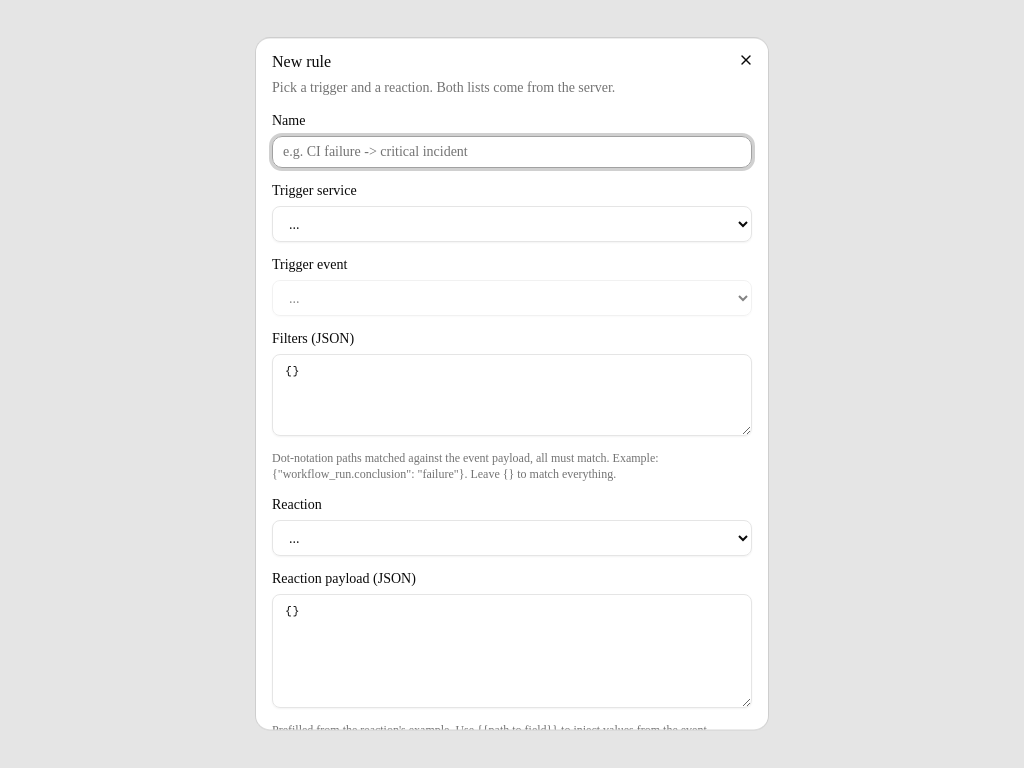
Test: RuleFormDialog › shows API error on save failure
Check: the dialog is shown, box [256,38,768,730]
Type "My Rule" into the field labelled "Name".
click(512, 152); type("My Rule")  # box [272,136,752,168]
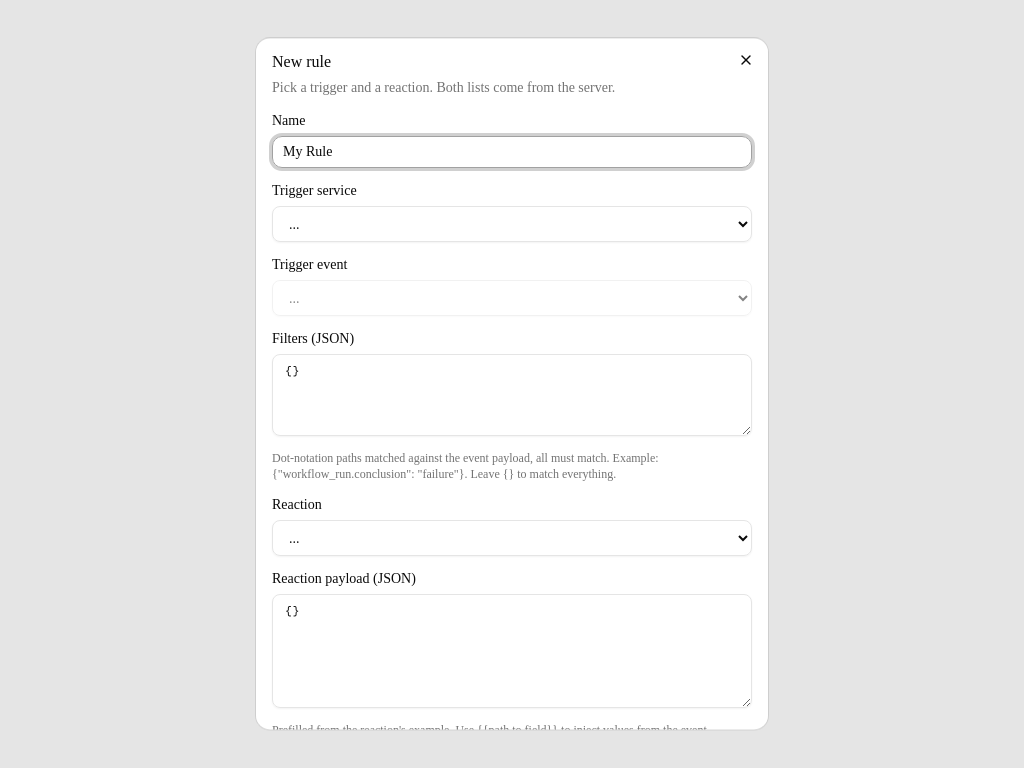
Select "github" in the dropdown labelled "Trigger service" at (512, 224), box [272,206,752,242]
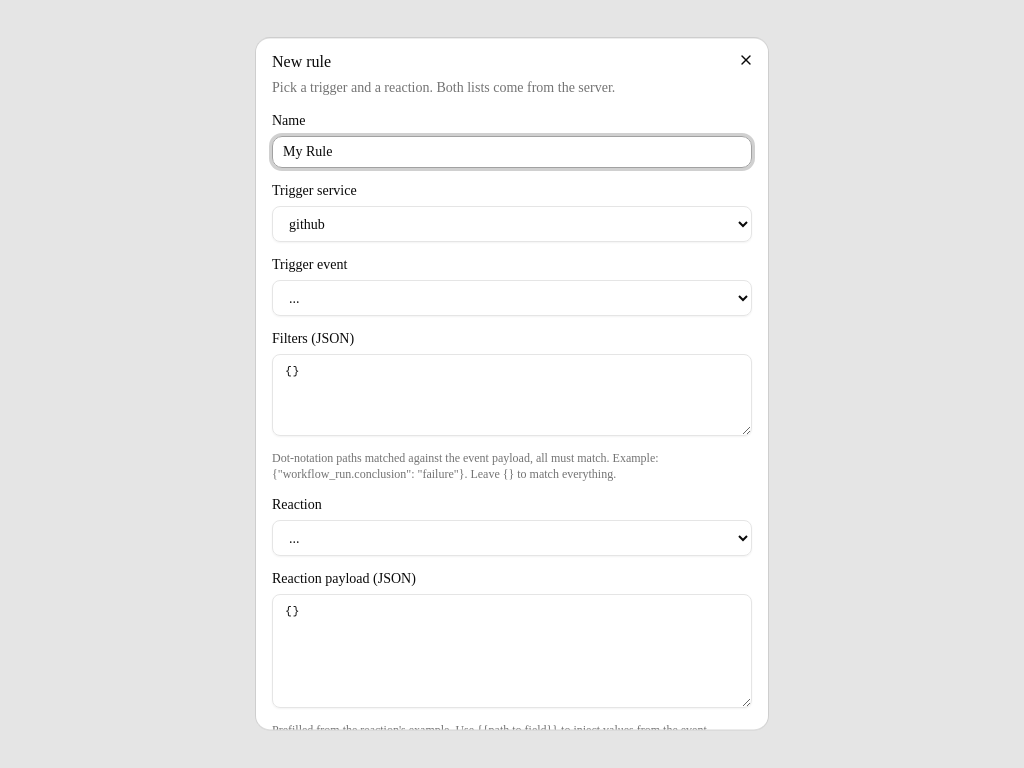
Select "workflow_run" in the dropdown labelled "Trigger event" at (512, 298), box [272,280,752,316]
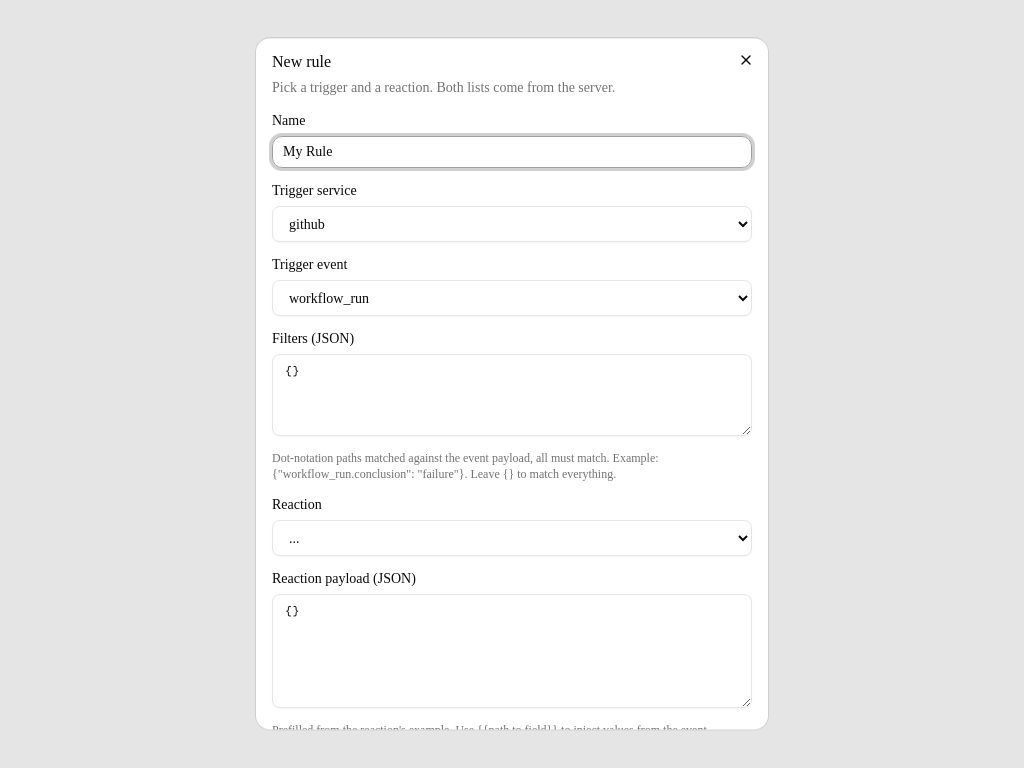
Select "vigil vigil_create_incident" in the dropdown labelled "Reaction" at (512, 538), box [272,520,752,556]
(page scrolled)
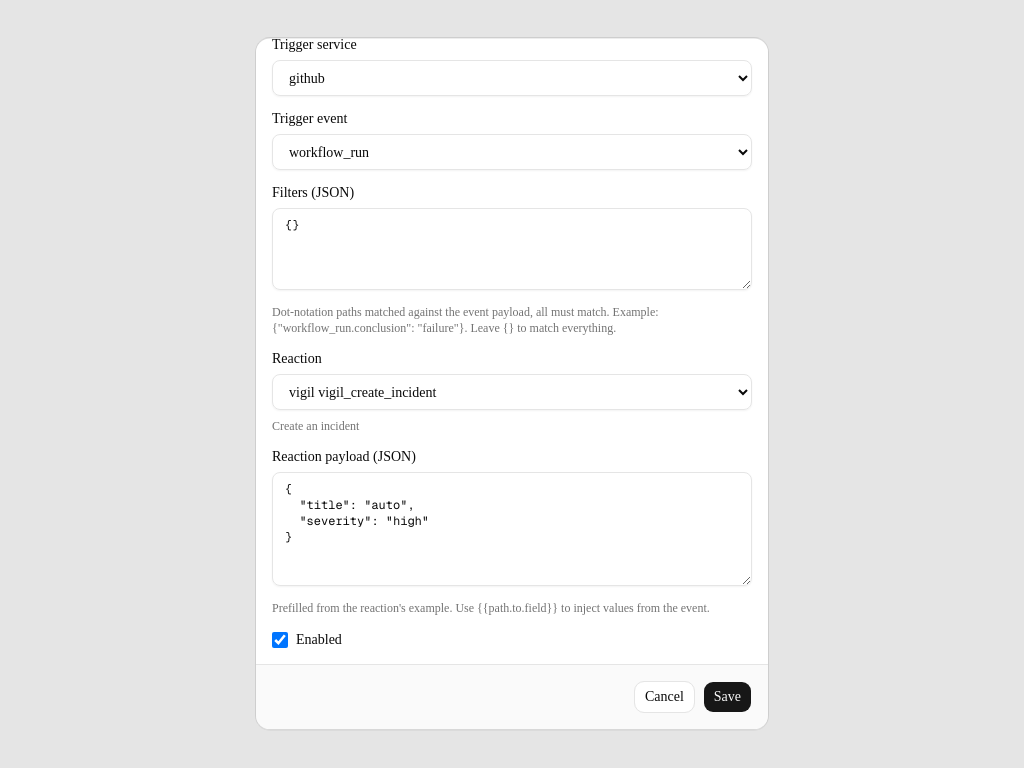
Click the button "Save".
click(727, 697)  # box [703,681,752,713]
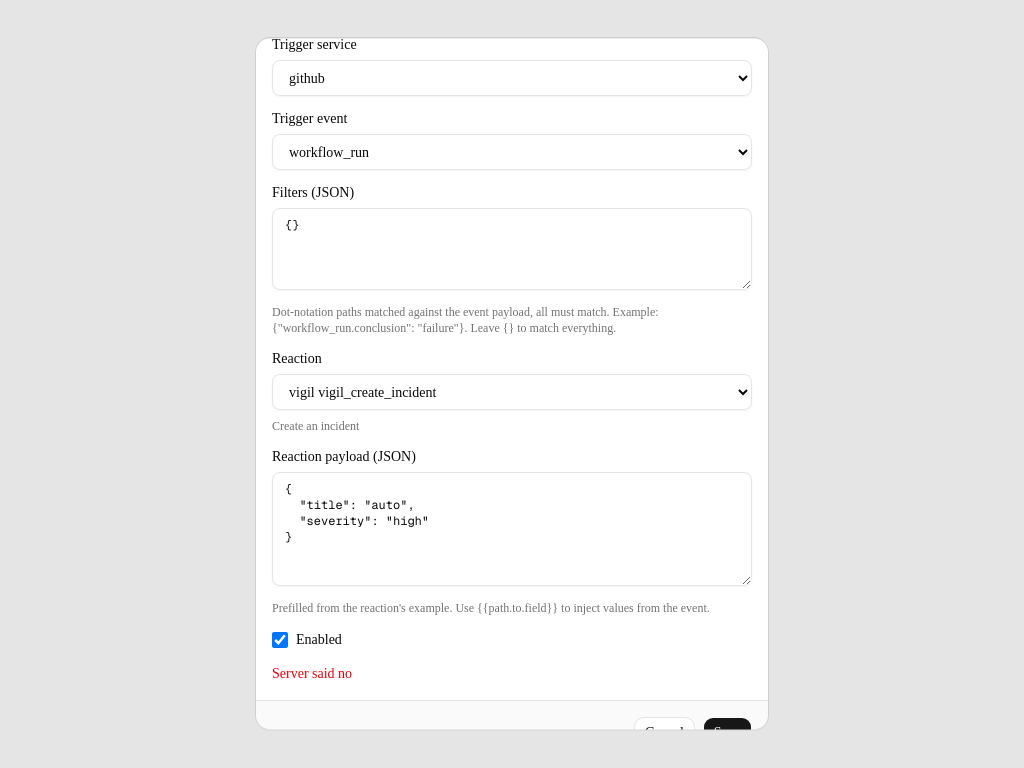
Check: the text "Server said no" is shown, box [272,666,352,681]
